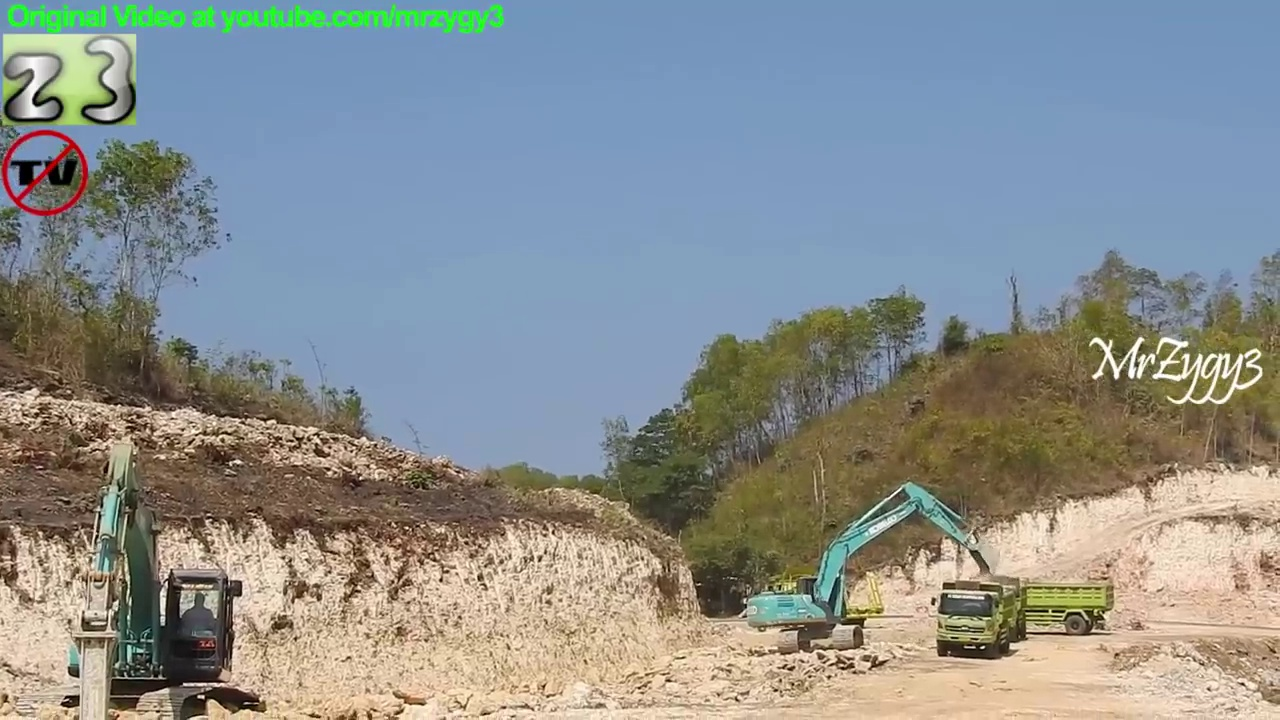excavator: (12, 433, 270, 720), (744, 479, 1002, 659)
truck: (955, 574, 1119, 641), (938, 579, 1017, 658), (948, 574, 1031, 648)
